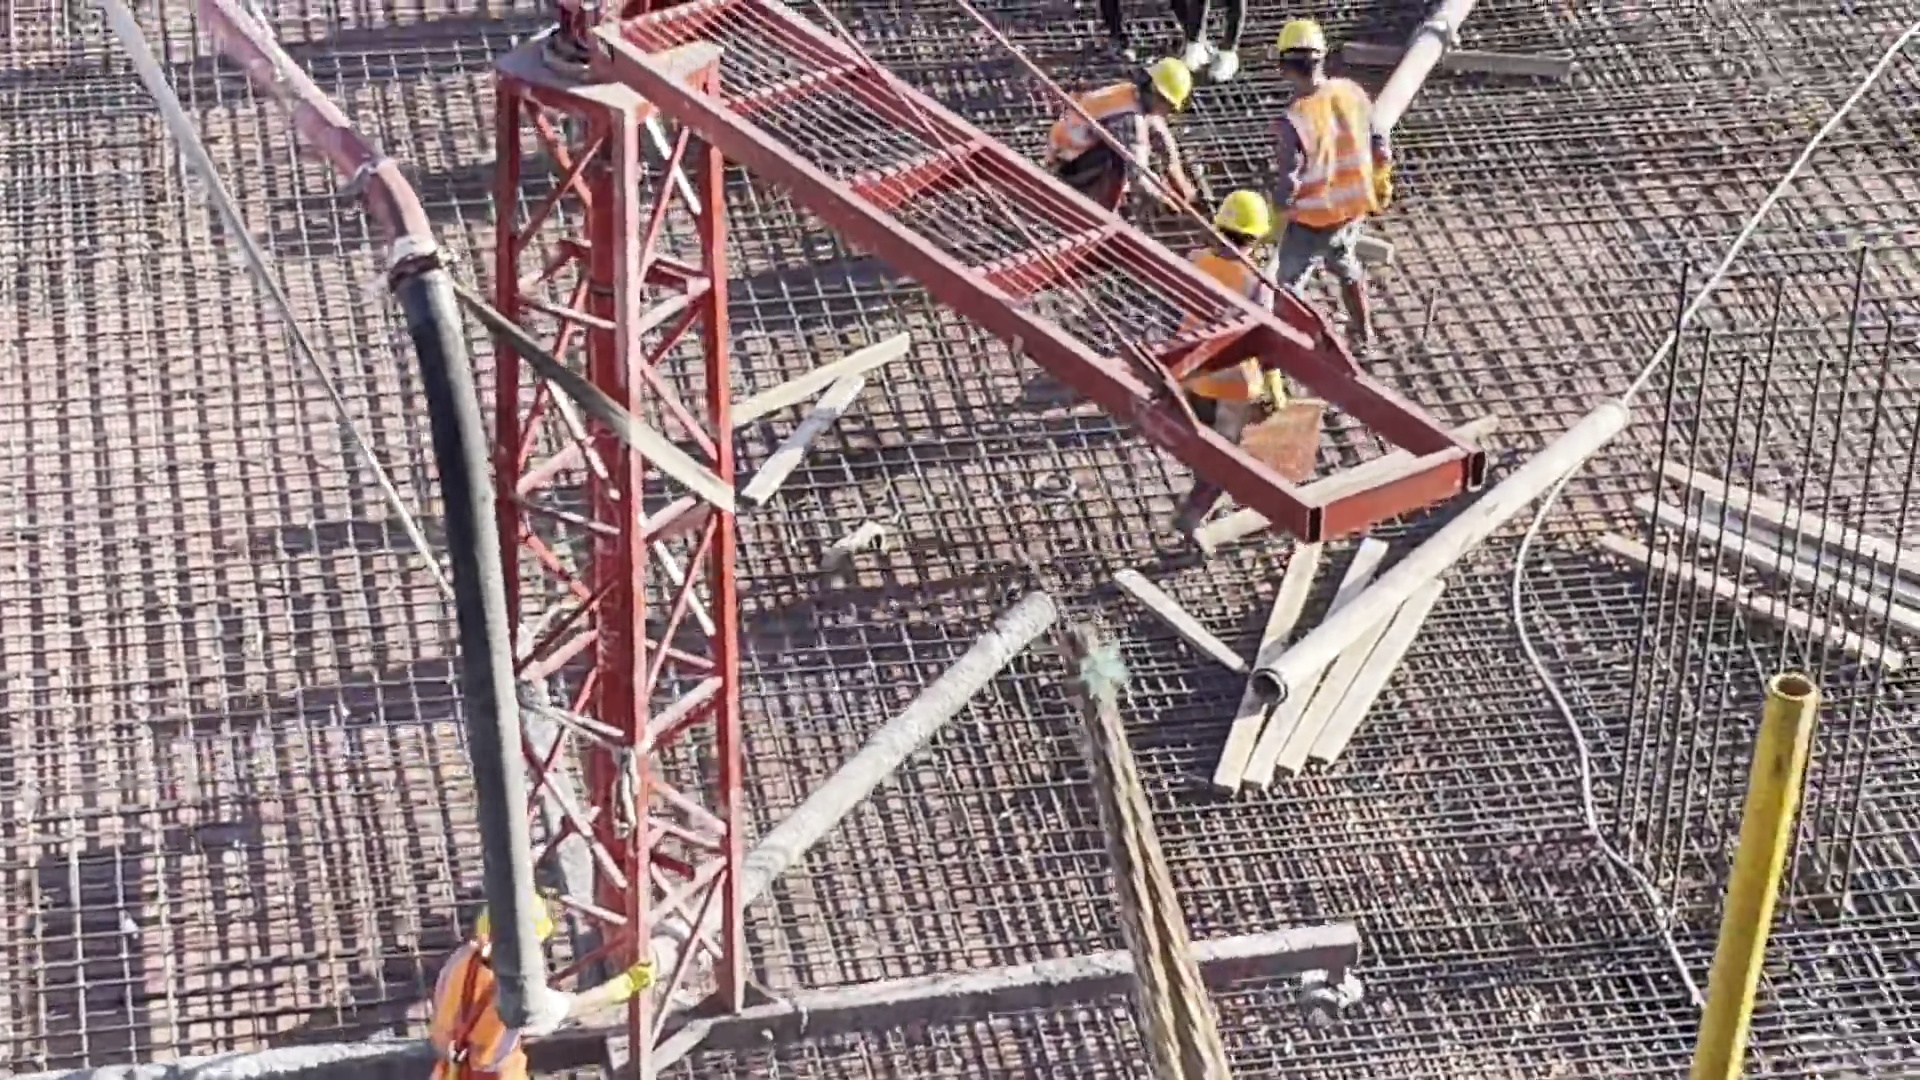helmet: (480, 891, 550, 960), (1216, 183, 1263, 253), (1273, 18, 1342, 65), (1146, 58, 1197, 111)
person: (1154, 186, 1314, 586), (1236, 15, 1395, 360), (396, 886, 662, 1080), (1033, 48, 1212, 227), (1169, 1, 1255, 87)
vest: (1169, 246, 1277, 406), (1285, 84, 1380, 261), (430, 963, 527, 1080), (1042, 83, 1146, 140)
